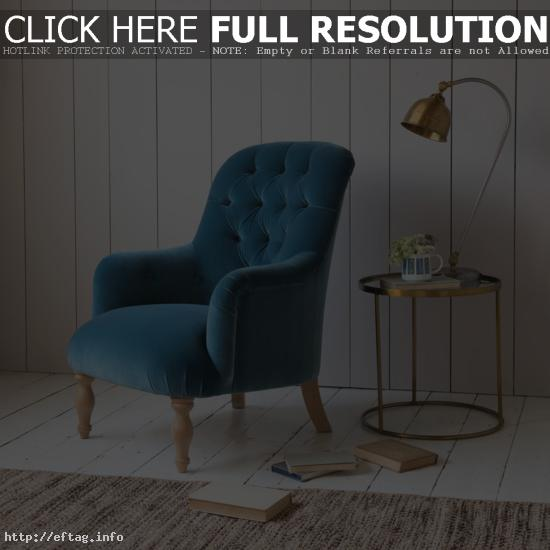chairs: (60, 135, 356, 478)
